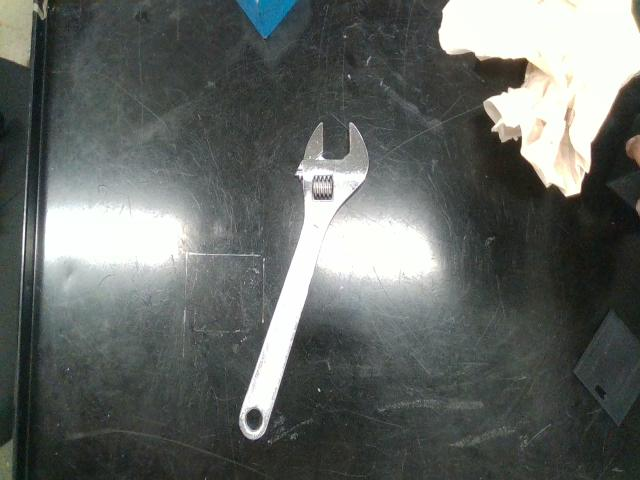Adjustable spanner: (239, 123, 369, 440)
